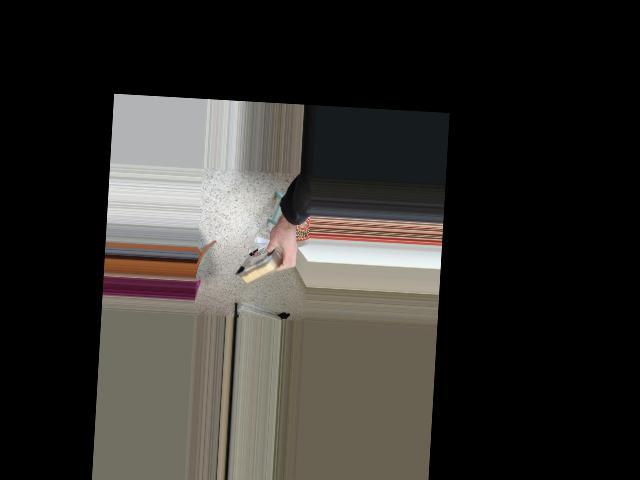cheese: (225, 231, 304, 295)
